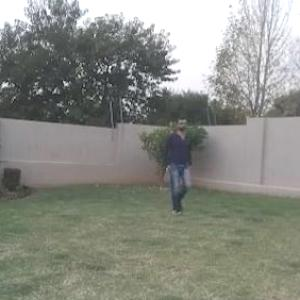follow: (162, 116, 195, 220)
